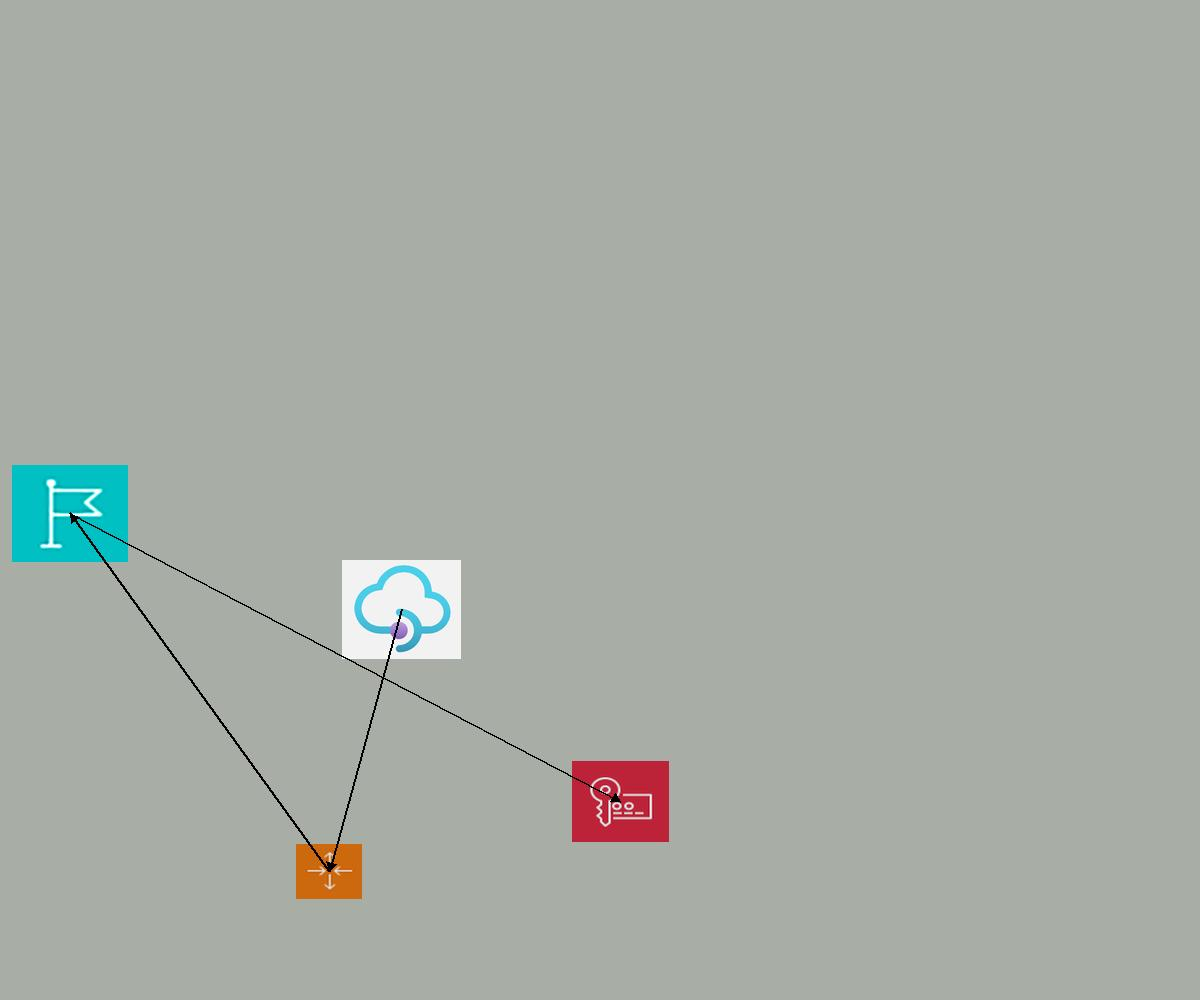AWS-Key-Management-Service: (572, 761, 669, 842)
AWS-Region: (12, 465, 128, 562)
AWS-Scaling-group: (296, 844, 362, 899)
Azure_api_gateway: (342, 560, 461, 659)
